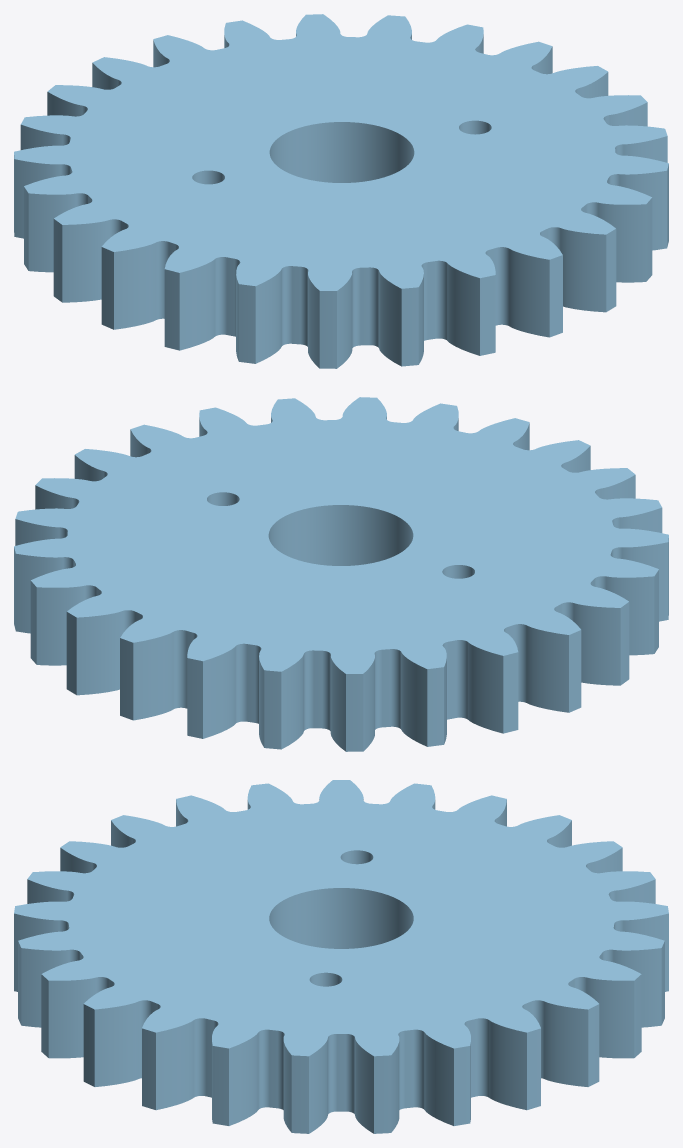
Rendered from 063_Spur_gear__25_teeth_.obj.
The picture shows the model from 3 angles, top to bottom: view 1: azimuth 30°, elevation 25°; view 2: azimuth 150°, elevation 25°; view 3: azimuth 270°, elevation 25°; orthographic projection.
Visible parts, largest first — view 1: mesh566, mesh718, mesh657, mesh688, mesh693, mesh662, mesh678, mesh642, mesh667, mesh698, mesh683, mesh637 (+30 smaller); view 2: mesh566, mesh718, mesh618, mesh702, mesh697, mesh623, mesh712, mesh603, mesh628, mesh692, mesh707, mesh598 (+30 smaller); view 3: mesh566, mesh718, mesh597, mesh638, mesh602, mesh643, mesh607, mesh648, mesh612, mesh653, mesh617, mesh658 (+31 smaller).
Part boxes in pixels (x1=…): mesh566: x1=14, y1=14, x2=668, y2=290; mesh718: x1=269, y1=122, x2=414, y2=182; mesh657: x1=560, y1=228, x2=606, y2=312; mesh688: x1=114, y1=242, x2=156, y2=329; mesh693: x1=62, y1=220, x2=108, y2=302; mesh662: x1=509, y1=249, x2=549, y2=337; mesh678: x1=179, y1=259, x2=214, y2=350; mesh642: x1=598, y1=202, x2=646, y2=282; mesh667: x1=447, y1=264, x2=479, y2=355; mesh698: x1=28, y1=193, x2=76, y2=272; mesh683: x1=255, y1=269, x2=281, y2=363; mesh637: x1=619, y1=170, x2=667, y2=250; mesh566: x1=14, y1=397, x2=668, y2=673; mesh718: x1=268, y1=505, x2=413, y2=565; mesh618: x1=76, y1=611, x2=122, y2=695; mesh702: x1=526, y1=625, x2=568, y2=712; mesh697: x1=574, y1=603, x2=620, y2=685; mesh623: x1=133, y1=632, x2=173, y2=720; mesh712: x1=468, y1=642, x2=503, y2=733; mesh603: x1=36, y1=585, x2=84, y2=665; mesh628: x1=203, y1=647, x2=235, y2=738; mesh692: x1=606, y1=576, x2=654, y2=655; mesh707: x1=401, y1=652, x2=427, y2=746; mesh598: x1=15, y1=553, x2=63, y2=633; mesh566: x1=14, y1=780, x2=668, y2=1056; mesh718: x1=269, y1=888, x2=413, y2=948; mesh597: x1=544, y1=1001, x2=588, y2=1086; mesh638: x1=94, y1=1001, x2=138, y2=1086; mesh602: x1=586, y1=977, x2=634, y2=1058; mesh643: x1=48, y1=977, x2=96, y2=1058; mesh607: x1=489, y1=1020, x2=526, y2=1110; mesh648: x1=156, y1=1020, x2=193, y2=1110; mesh612: x1=424, y1=1033, x2=453, y2=1125; mesh653: x1=229, y1=1033, x2=258, y2=1125; mesh617: x1=613, y1=948, x2=661, y2=1027; mesh658: x1=21, y1=948, x2=69, y2=1027.
Bounding box in the file's own units: 0.0539 × 0.00706 × 0.054.
